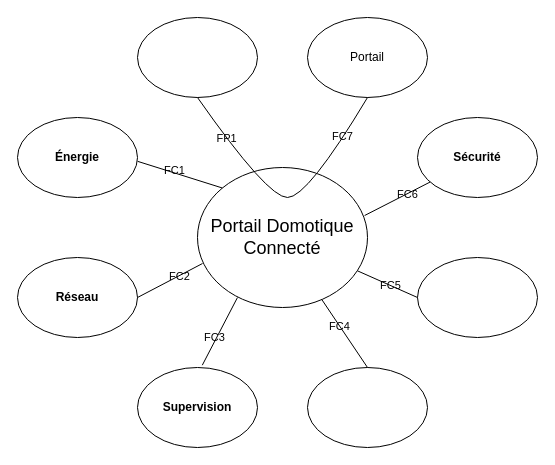
Some shapes in this 555 by 465 pixel diagram are drawn without their labels. Each missing label, with the centre of its shape:
"Esthétique" belongs at (x=477, y=297).
"Milieu extérieur" belongs at (x=367, y=407).
"Utilisateurs" belongs at (x=197, y=57).
